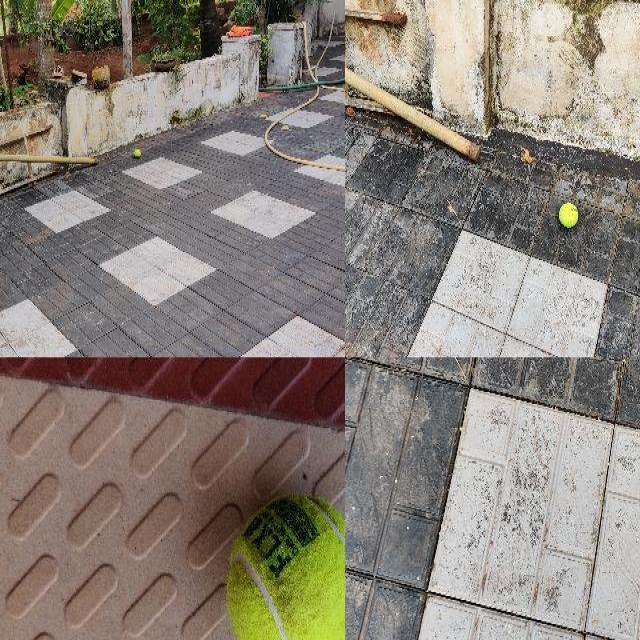tennis-ball: (226, 495, 344, 639), (558, 202, 578, 228), (134, 149, 141, 159)
